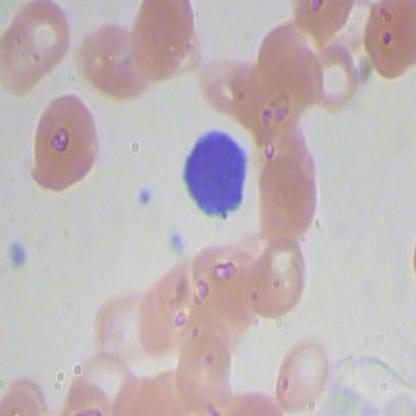Platelets: (8, 240, 26, 270), (135, 185, 156, 210), (168, 228, 189, 252)
RBC: (21, 88, 106, 199), (188, 232, 256, 325), (151, 258, 218, 351), (90, 276, 161, 363), (245, 237, 315, 323), (72, 22, 147, 101), (129, 1, 204, 80), (255, 153, 321, 239), (270, 328, 329, 415), (175, 328, 233, 415), (192, 44, 255, 123), (241, 65, 304, 144), (12, 1, 74, 78), (1, 22, 62, 100), (359, 1, 415, 83), (311, 41, 364, 118), (285, 1, 355, 39)
WBC: (181, 127, 249, 224)
